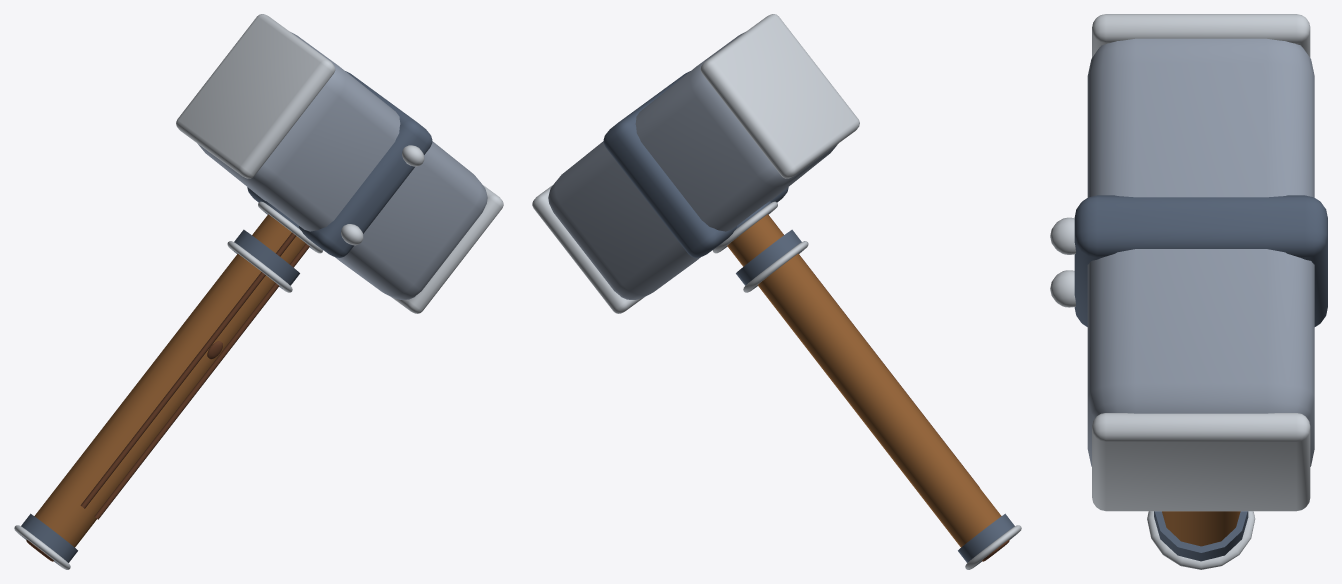
File: ironhammer.glb
3 views of the same model, side by side, from view 1: azimuth 30°, elevation 25°; view 2: azimuth 150°, elevation 25°; view 3: azimuth 270°, elevation 25° (orthographic). The views are drawn at different scales.
Parts seen in each view (by area): view 1: _box, _cyl, _cyl.004; view 2: _box, _cyl, _cyl.004; view 3: _box, _cyl.004, _cyl.
Boxes of the visible parts, bbox=[...] form: _box: bbox=[176, 14, 503, 313]; _cyl: bbox=[26, 214, 309, 561]; _cyl.004: bbox=[14, 201, 322, 569]; _box: bbox=[532, 14, 859, 313]; _cyl: bbox=[727, 214, 1009, 561]; _cyl.004: bbox=[713, 201, 1021, 569]; _box: bbox=[1050, 14, 1327, 511]; _cyl.004: bbox=[1147, 511, 1255, 569]; _cyl: bbox=[1162, 511, 1240, 546].
Bounding box in the file's own units: 1.15 × 1.15 × 0.3975.
